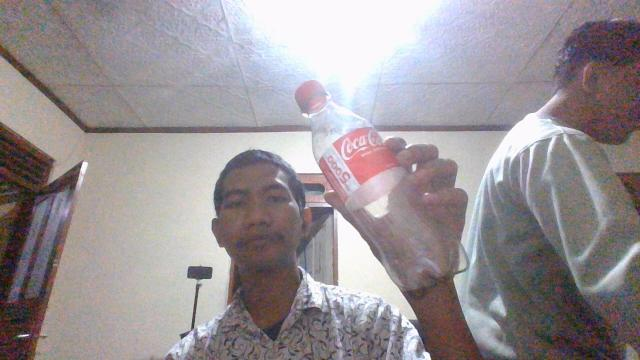coca-cola: (293, 79, 471, 294)
